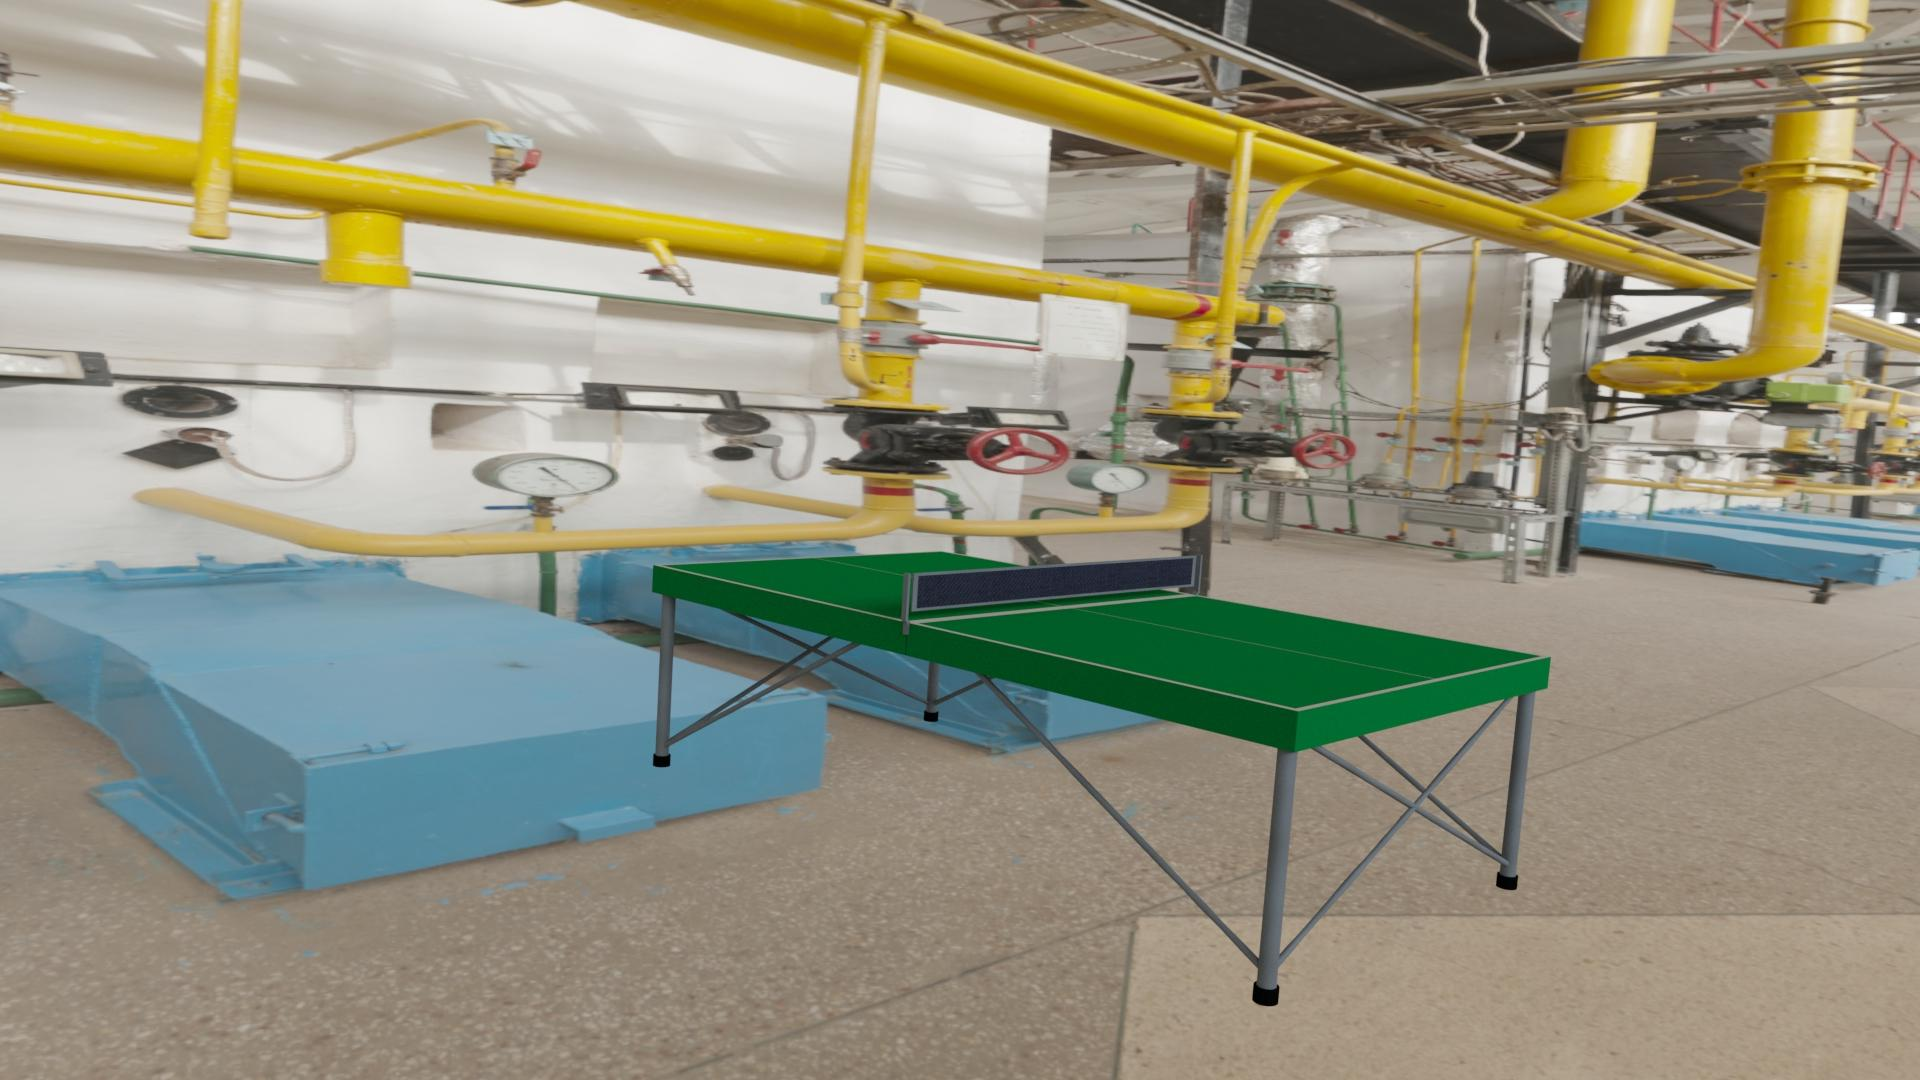table: (661, 551, 1543, 708)
